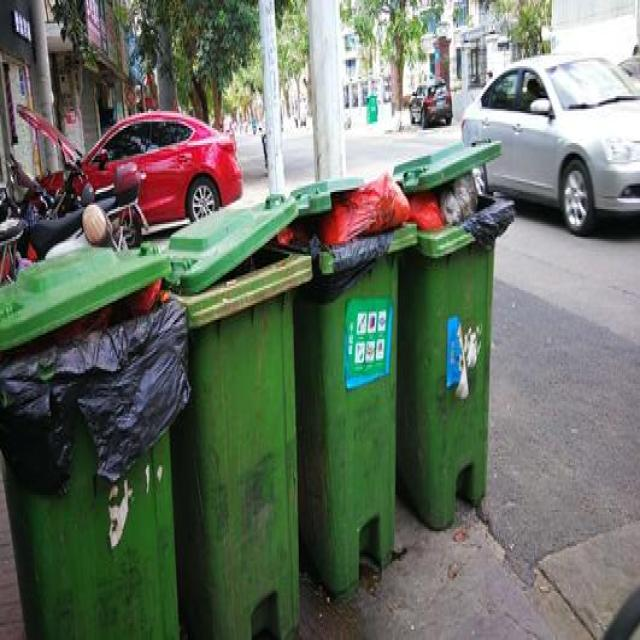garbage_bin: (162, 200, 310, 638)
overflow: (0, 245, 188, 638), (289, 173, 418, 591), (395, 141, 515, 527)
